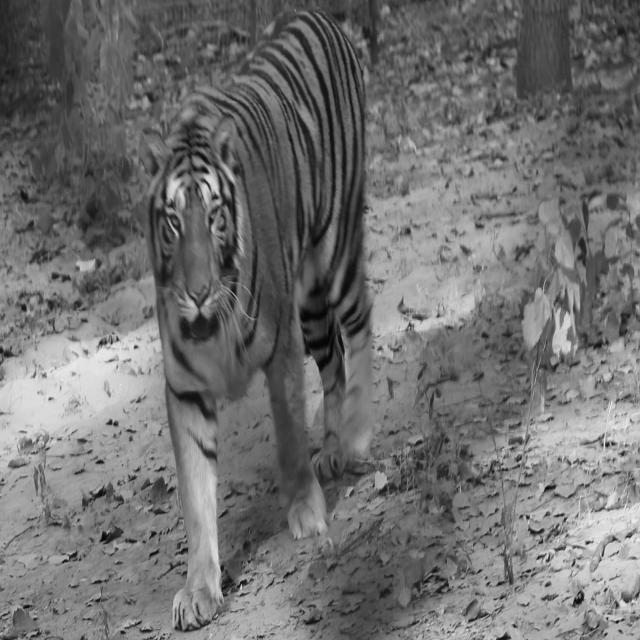Tiger: (137, 6, 375, 632)
